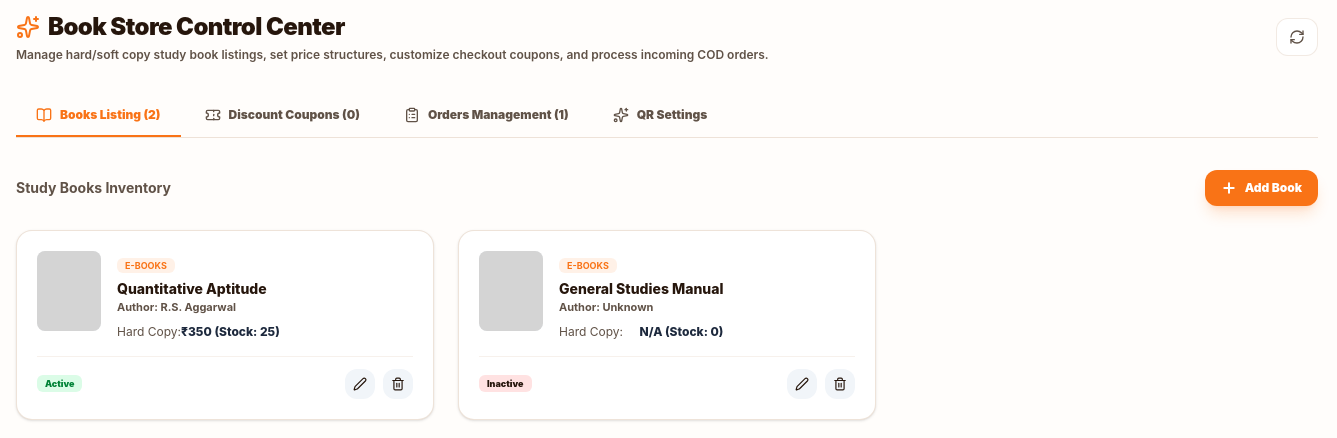
Test case: BookStorePage › shows the empty state when there are no coupons
The width and height of the screenshot is (1337, 438).
Click the button "Discount Coupons (0)" at (282, 116), box [184,95,380,137]
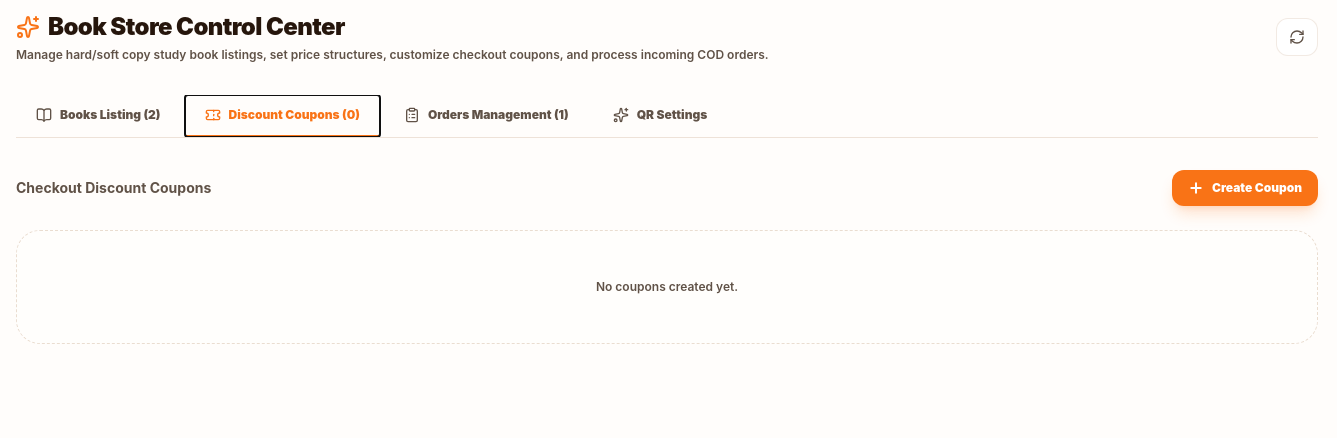
Expected: the text "No coupons created yet." is shown, [596,279,738,294]
